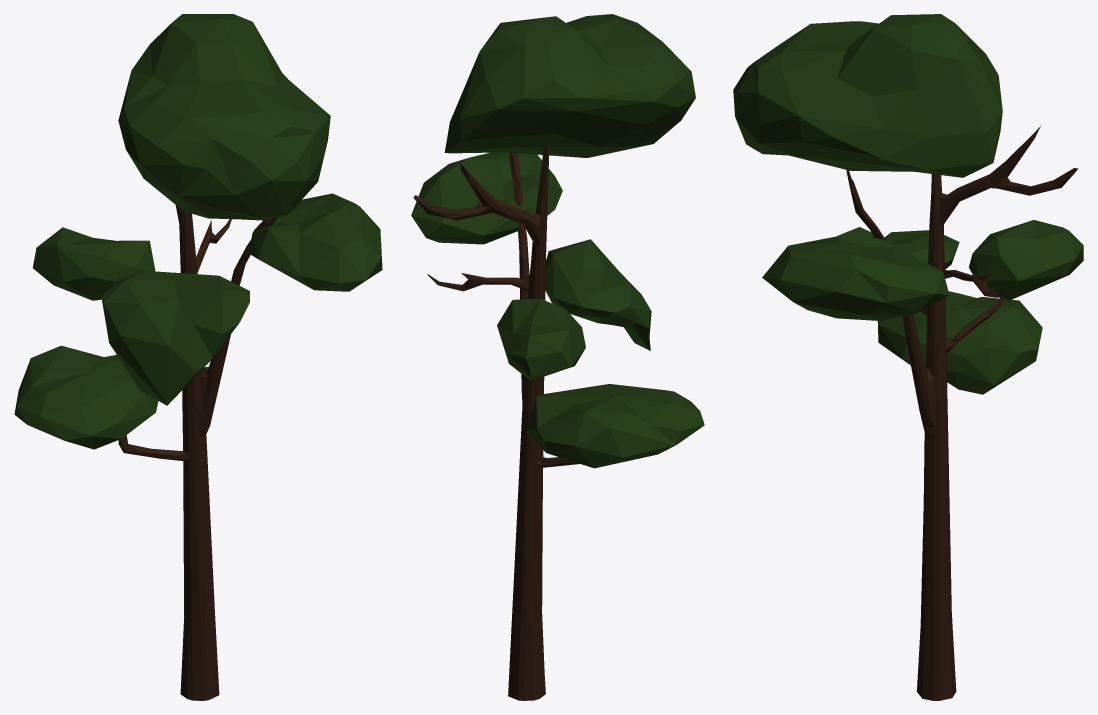
The model's file is SM_tree_jungle_09.fbx.
3 views of the same model, side by side, from view 1: azimuth 30°, elevation 25°; view 2: azimuth 150°, elevation 25°; view 3: azimuth 270°, elevation 25° (orthographic). The views are drawn at different scales.
Visible parts, largest first — view 1: Object009; view 2: Object009; view 3: Object009.
Part boxes in pixels (left/top/right/bottom): Object009: left=14, top=14, right=382, bottom=700; Object009: left=411, top=14, right=704, bottom=700; Object009: left=733, top=14, right=1083, bottom=700.
Bounding box in the file's own units: 275 × 573 × 271.
